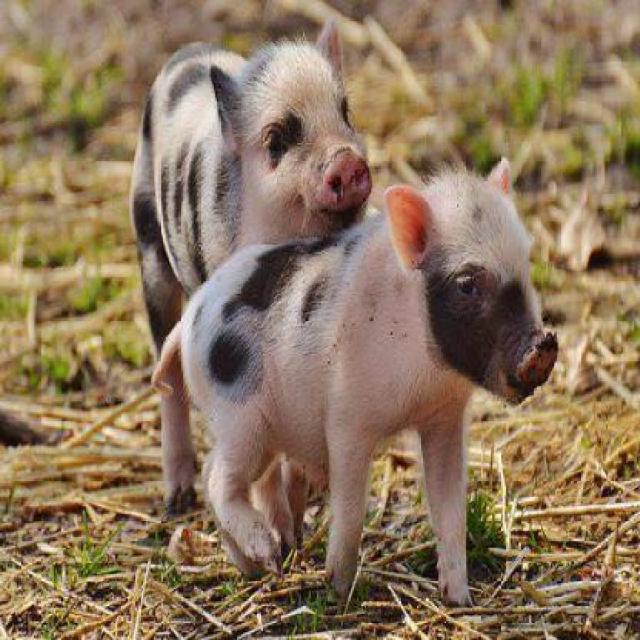pig: (155, 160, 558, 603), (131, 24, 371, 352), (254, 458, 308, 553), (161, 376, 196, 515)
